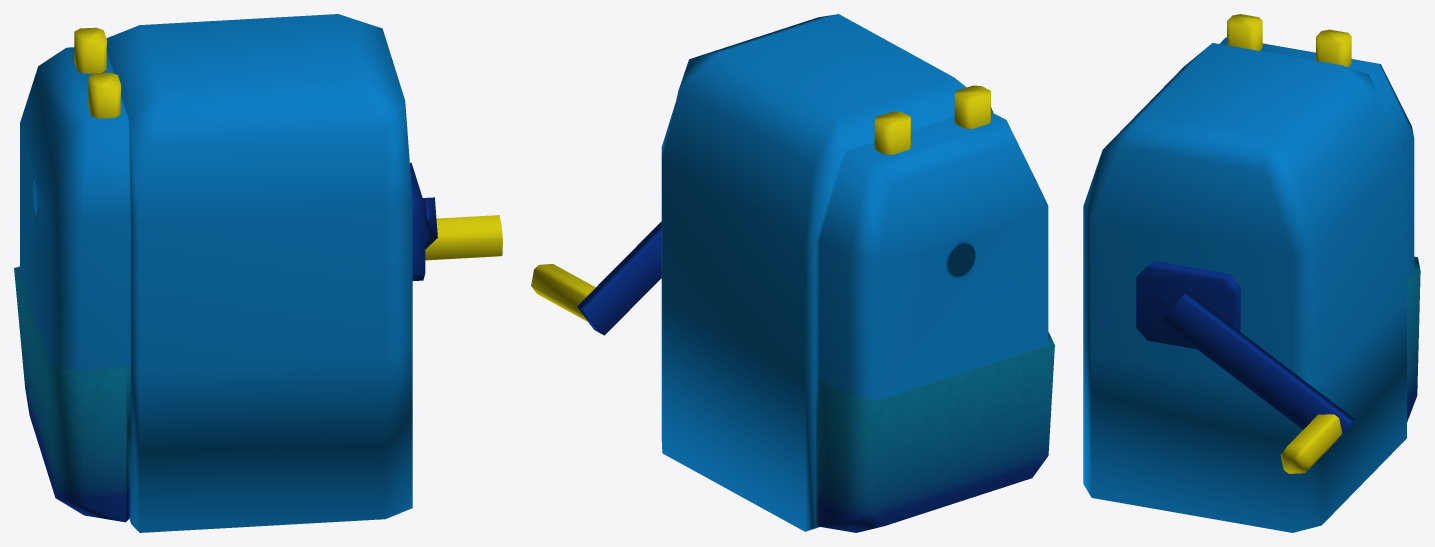
The model's file is Pencll sharpener.fbx.
The picture shows the model from 3 angles, left to right: view 1: azimuth 30°, elevation 25°; view 2: azimuth 150°, elevation 25°; view 3: azimuth 270°, elevation 25°; orthographic projection. The views are drawn at different scales.
Visible parts, largest first — view 1: pencil sharpener; view 2: pencil sharpener; view 3: pencil sharpener.
Part boxes in pixels (x1,y1,x2,y2): pencil sharpener: (14, 14, 502, 532); pencil sharpener: (531, 14, 1054, 532); pencil sharpener: (1083, 14, 1420, 532).
Bounding box in the file's own units: 125 × 99.68 × 80.4.
Materials: 1 (1 with a texture image).
